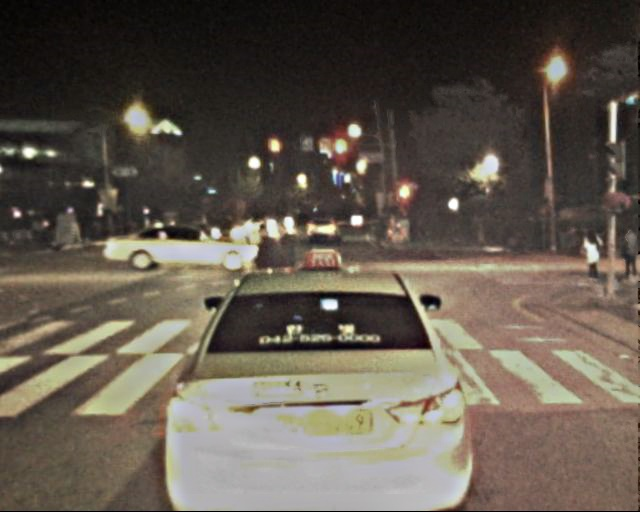person: (270, 215, 304, 320), (251, 218, 284, 316), (617, 227, 639, 285), (580, 228, 602, 281)
